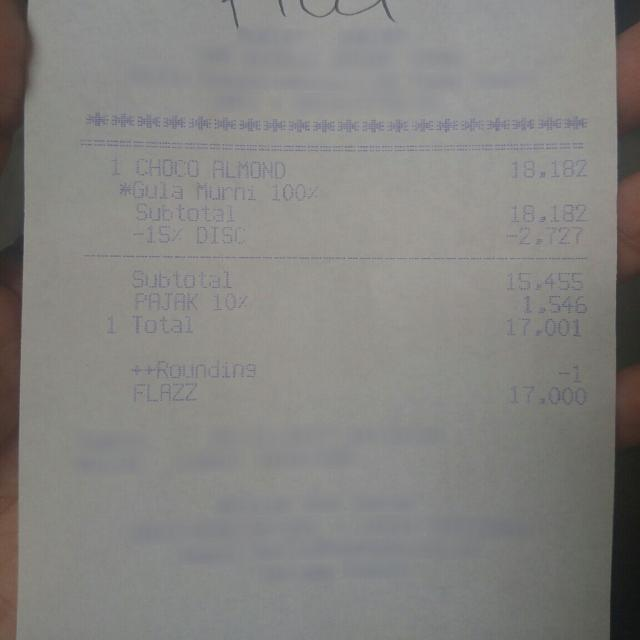kertas: (15, 0, 615, 640)
